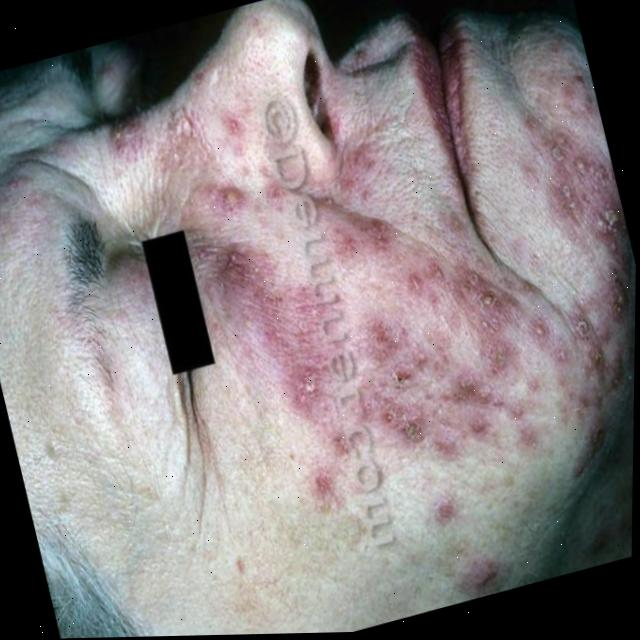Rosacea: (128, 0, 640, 526)
